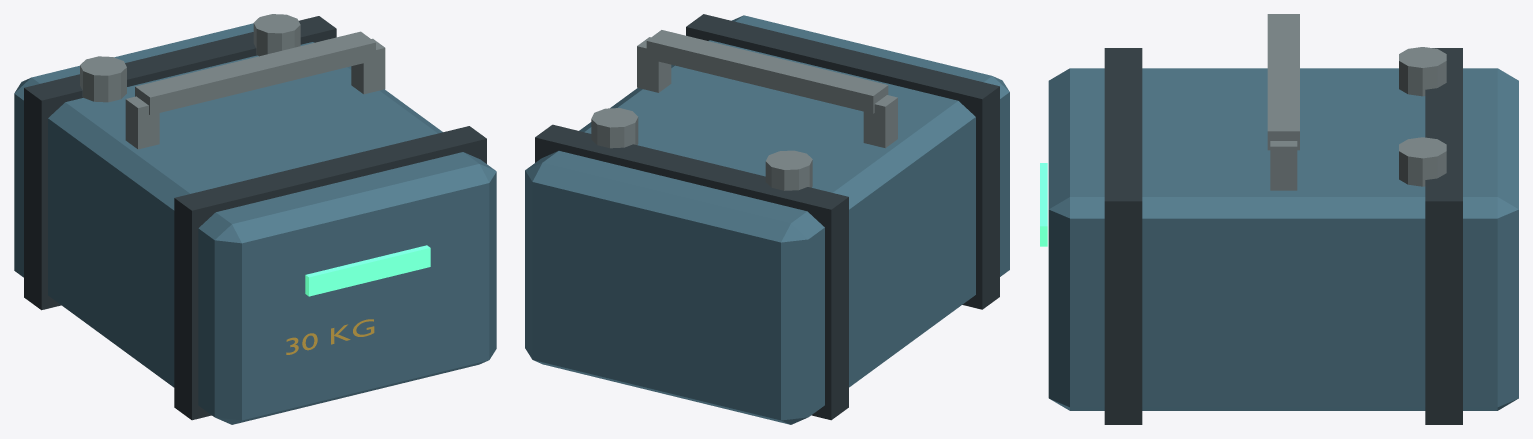
The model's file is DeadRail_Battery_Small.fbx.
3 views of the same model, side by side, from view 1: azimuth 30°, elevation 25°; view 2: azimuth 150°, elevation 25°; view 3: azimuth 270°, elevation 25° (orthographic). The views are drawn at different scales.
Parts seen in each view (by area): view 1: Battery_Case.001, Battery_Retaining_Band.002, Battery_Retaining_Band.003, Battery_Handle.001, Battery_Status.001, Battery_Terminal.002, Battery_Terminal.003, Battery_Handle_Post.002, Battery_Handle_Post.003, Battery_Weight.001; view 2: Battery_Case.001, Battery_Retaining_Band.002, Battery_Retaining_Band.003, Battery_Handle.001, Battery_Terminal.002, Battery_Terminal.003, Battery_Handle_Post.002, Battery_Handle_Post.003; view 3: Battery_Case.001, Battery_Retaining_Band.002, Battery_Retaining_Band.003, Battery_Handle.001, Battery_Terminal.002, Battery_Terminal.003, Battery_Handle_Post.003, Battery_Status.001.
Part boxes in pixels (<box>): Battery_Case.001: <box>14,23,496,424</box>; Battery_Retaining_Band.002: <box>174,126,486,420</box>; Battery_Retaining_Band.003: <box>24,16,336,310</box>; Battery_Handle.001: <box>135,31,375,115</box>; Battery_Status.001: <box>305,245,430,296</box>; Battery_Terminal.002: <box>80,56,126,102</box>; Battery_Terminal.003: <box>253,14,300,56</box>; Battery_Handle_Post.002: <box>125,96,159,149</box>; Battery_Handle_Post.003: <box>351,38,385,94</box>; Battery_Weight.001: <box>286,319,374,354</box>; Battery_Case.001: <box>525,15,1009,424</box>; Battery_Retaining_Band.002: <box>686,14,999,309</box>; Battery_Retaining_Band.003: <box>535,124,848,420</box>; Battery_Handle.001: <box>646,30,888,113</box>; Battery_Terminal.002: <box>765,150,812,190</box>; Battery_Terminal.003: <box>591,108,638,148</box>; Battery_Handle_Post.002: <box>863,95,897,148</box>; Battery_Handle_Post.003: <box>637,37,671,92</box>; Battery_Case.001: <box>1048,68,1518,410</box>; Battery_Retaining_Band.002: <box>1104,48,1142,424</box>; Battery_Retaining_Band.003: <box>1425,48,1462,424</box>; Battery_Handle.001: <box>1267,14,1299,150</box>; Battery_Terminal.002: <box>1399,47,1446,96</box>; Battery_Terminal.003: <box>1399,137,1446,186</box>; Battery_Handle_Post.003: <box>1270,141,1297,190</box>; Battery_Status.001: <box>1040,163,1047,246</box>.
Bounding box in the file's own units: 0.68 × 0.5688 × 0.9.
